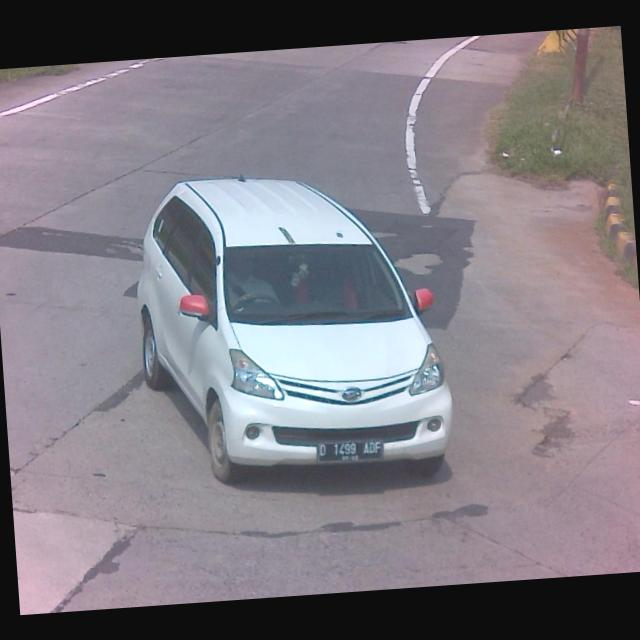plate: (314, 436, 384, 464)
